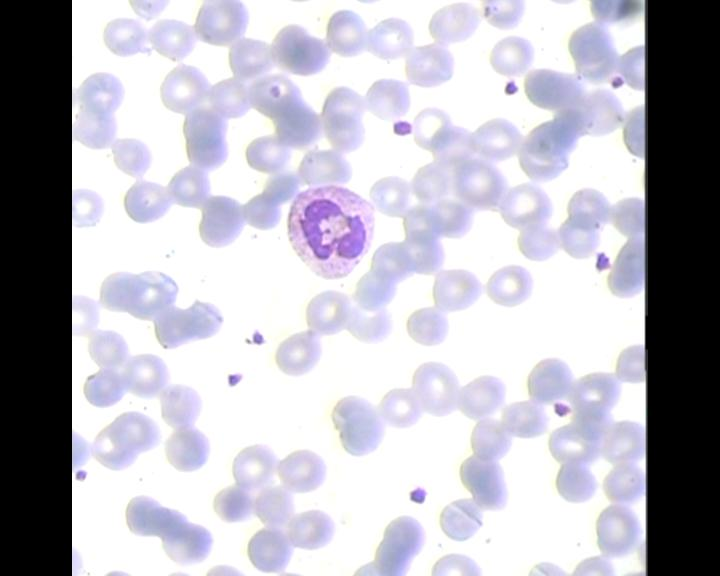neut: (281, 178, 380, 279)
